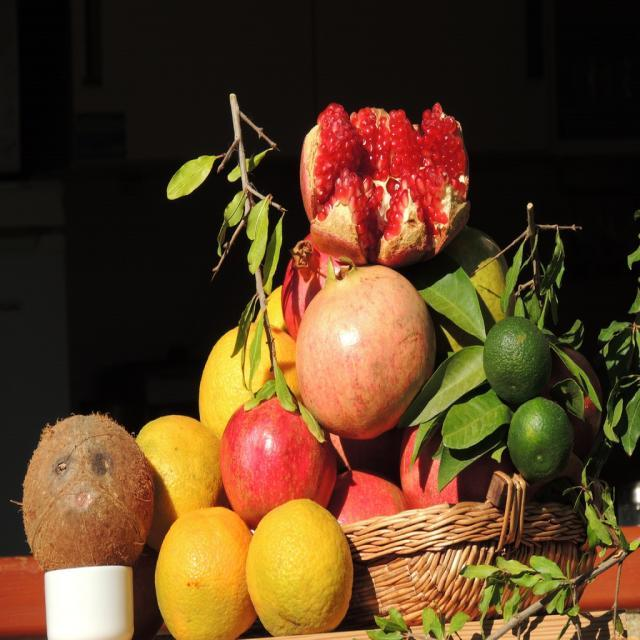Orange: (242, 503, 356, 638)
